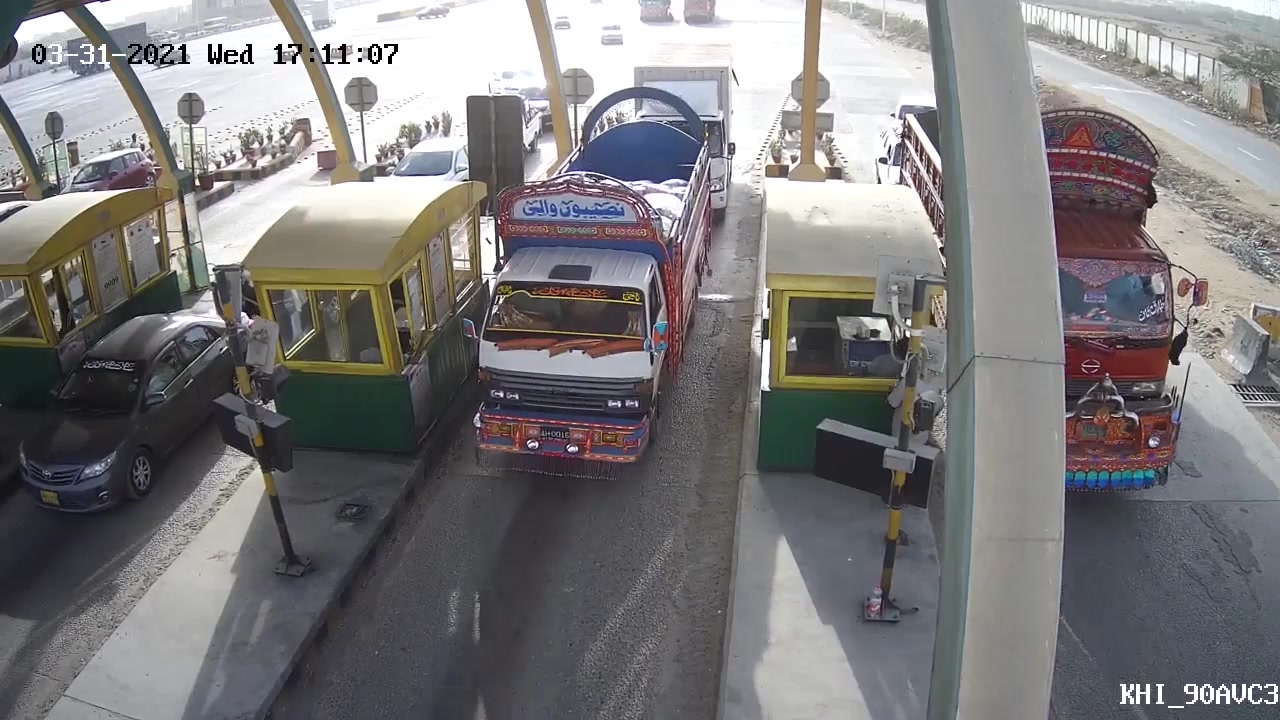F3: (467, 86, 715, 475)
